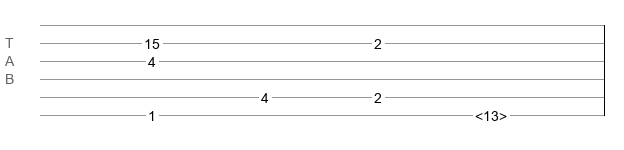1: (148, 108, 156, 118)
15: (144, 36, 160, 46)
2: (374, 36, 382, 46), (374, 90, 382, 100)
4: (148, 54, 156, 64), (261, 90, 269, 100)
harmonic: (475, 108, 507, 118)
